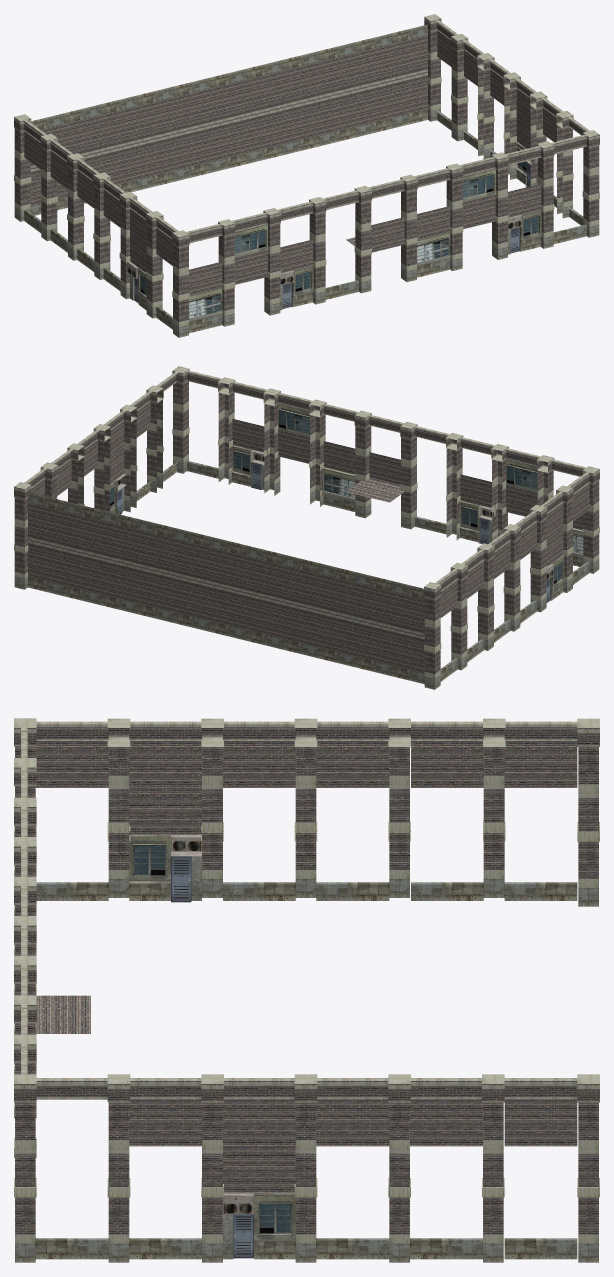
Rendered from warehouse_building02_building01_fence_0_lev1.glb.
3 renders of one model, top to bottom at view 1: azimuth 30°, elevation 25°; view 2: azimuth 150°, elevation 25°; view 3: azimuth 270°, elevation 25°, orthographic. The views are drawn at different scales.
Parts seen in each view (by area): view 1: warehouse_building02_building01_fence_0_lev1; view 2: warehouse_building02_building01_fence_0_lev1; view 3: warehouse_building02_building01_fence_0_lev1.
Part boxes in pixels (bbox=[...]): warehouse_building02_building01_fence_0_lev1: bbox=[14, 14, 599, 337]; warehouse_building02_building01_fence_0_lev1: bbox=[14, 366, 599, 689]; warehouse_building02_building01_fence_0_lev1: bbox=[14, 718, 599, 1262].
Size of the model in its own units: 28.5 by 6.51 by 19.31.
Materials: 1 (1 with a texture image).
